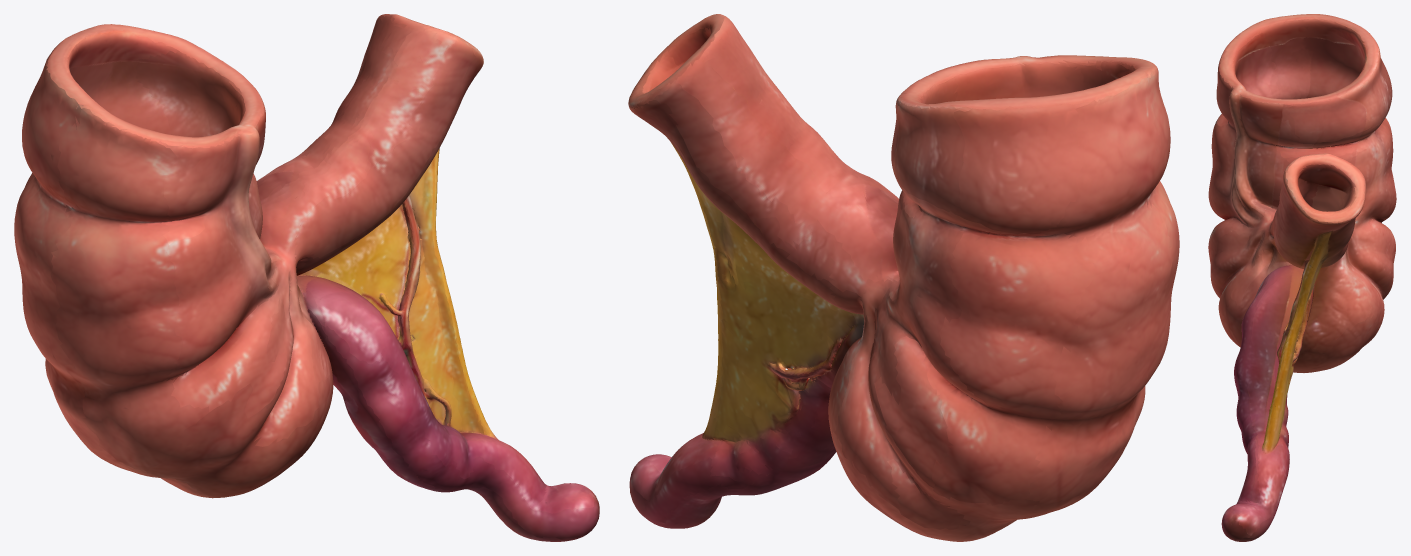
Rendered from 02-complete.glb.
3 renders of one model, left to right at view 1: azimuth 30°, elevation 25°; view 2: azimuth 150°, elevation 25°; view 3: azimuth 270°, elevation 25°, orthographic. The views are drawn at different scales.
Visible parts, largest first — view 1: cecum, ileum, appendix, mesoappendix; view 2: cecum, ileum, mesoappendix, appendix; view 3: cecum, ileum, appendix, mesoappendix.
Part boxes in pixels (x1,y1,x2,y2): cecum: [14, 24, 333, 498]; ileum: [275, 14, 483, 308]; appendix: [320, 281, 599, 541]; mesoappendix: [314, 189, 496, 438]; cecum: [828, 55, 1179, 541]; ileum: [628, 14, 882, 319]; mesoappendix: [701, 208, 856, 448]; appendix: [629, 370, 836, 528]; cecum: [1208, 14, 1396, 372]; ileum: [1268, 153, 1365, 279]; appendix: [1221, 274, 1289, 541]; mesoappendix: [1251, 274, 1349, 453].
Size of what is drawn, in the model's own units: 1.8 by 1.8 by 0.8195.
1 material, 1 textured.
